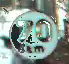Speed limit: (6, 5, 61, 60)
